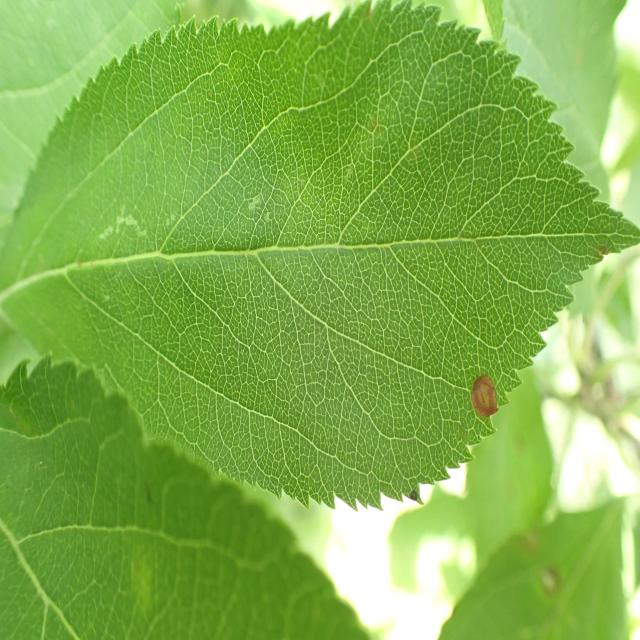Black Rot: (461, 361, 516, 432)
